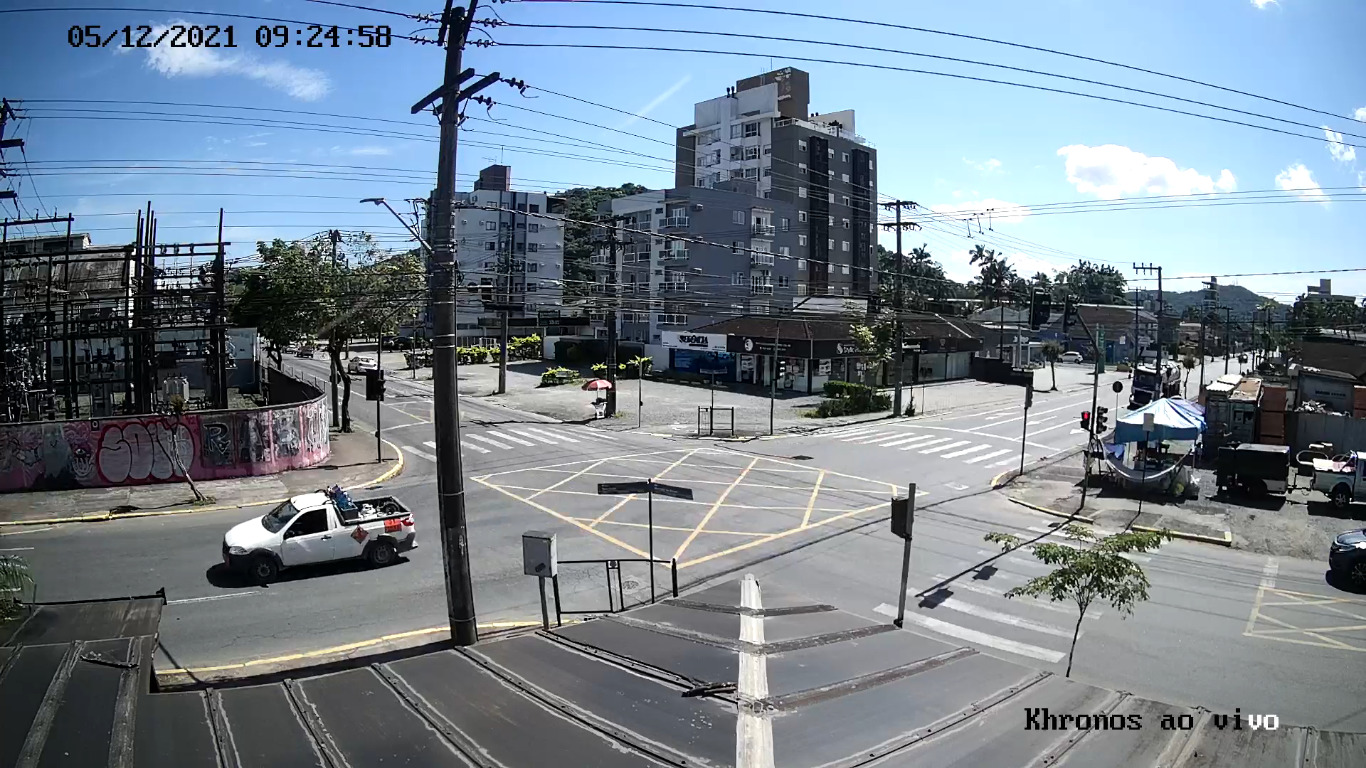car: (221, 490, 418, 584)
